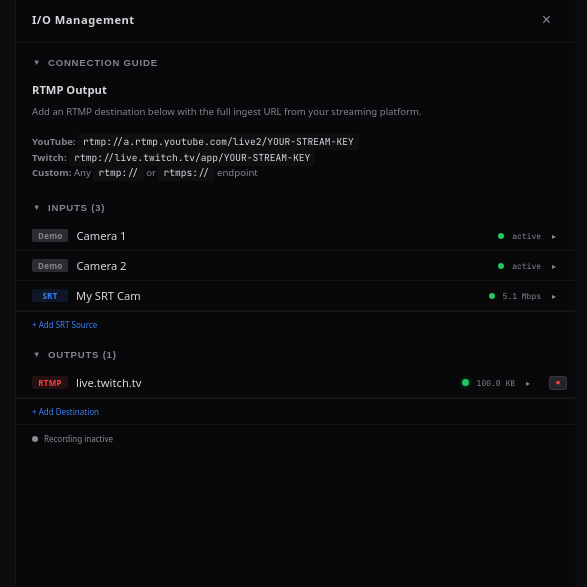
IOPanel › masks RTMP stream key in expanded detail panel with reveal toggle
Expected: the element with class "dest-row" is shown, [16,368,575,398]
Click the button with class "row-header" showing "RTMP live.twitch.tv 100.0 KB ▸" at x=50, y=383, box [16,368,549,397]
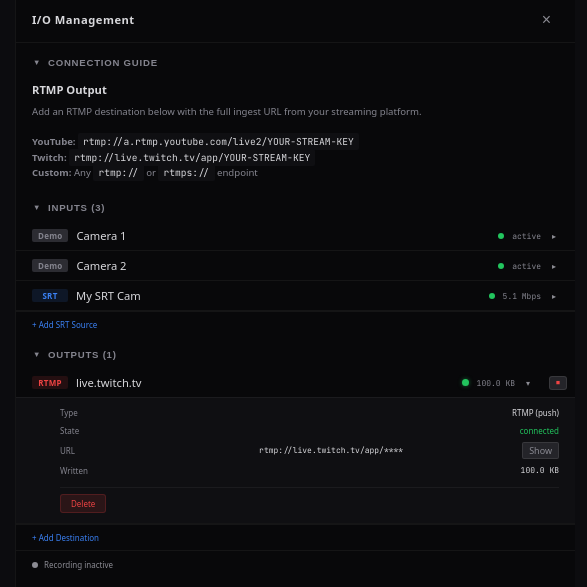
Result: the element with class "dest-row" shows "RTMP (push)" at [512,407,559,418]
Result: the element with class "dest-row" shows "rtmp://live.twitch.tv/app/****" at [259,445,403,455]
Result: the button with class "reveal-btn" is shown
Click the button with class "reveal-btn" at x=541, y=450, box [522,442,559,459]
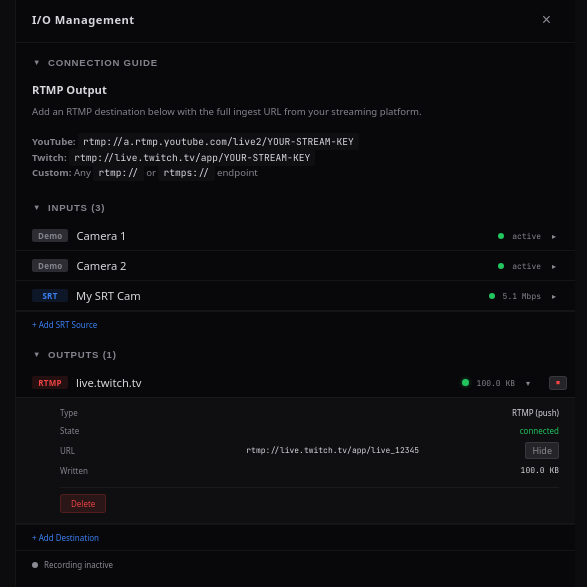
Result: the element with class "dest-row" shows "rtmp://live.twitch.tv/app/live_12345" at [246,445,419,455]
Result: the button with class "reveal-btn" reads "Hide" at [525,442,559,459]
